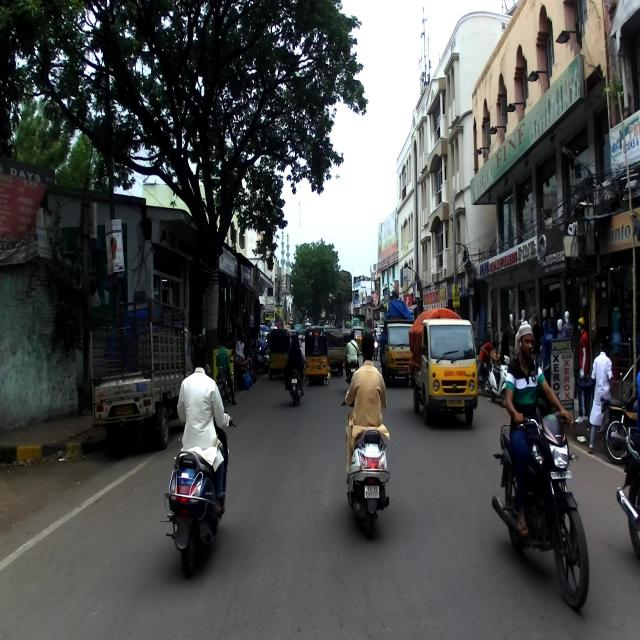motorcycle_Honda: (492, 404, 590, 610)
scooter: (160, 405, 236, 578), (341, 389, 389, 541)
truck: (85, 298, 193, 436), (410, 311, 482, 439), (382, 313, 416, 382)
